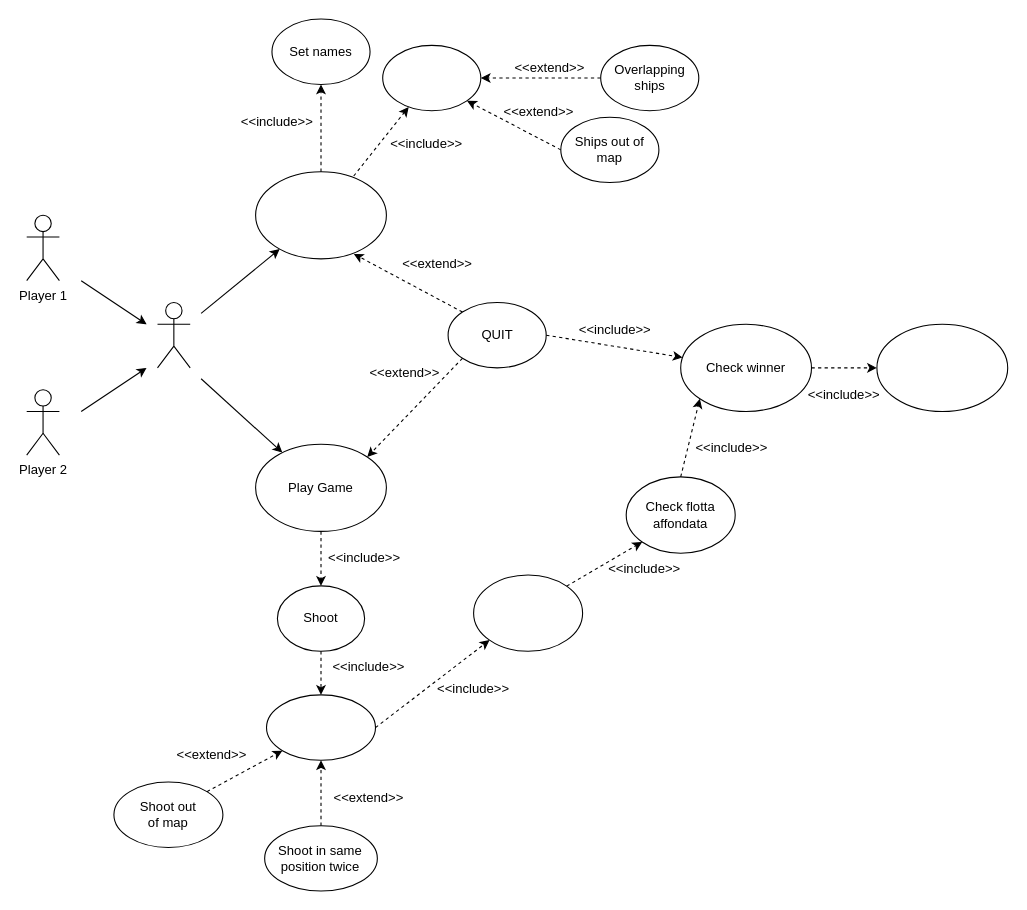
The diagram is 1027 pixels wide and 910 high, and some of its shapes have lost their labels. The shapes that lost their labels are listed below. From the top down, each one's centre as x and y in pixels, then its label:
At [431,77]: "Positioning ships".
At [320,215]: "Set Game".
At [173,334]: "Player".
At [942,367]: "End Game".
At [528,612]: "Check nave affondata".
At [320,727]: "Check shoot validity".
